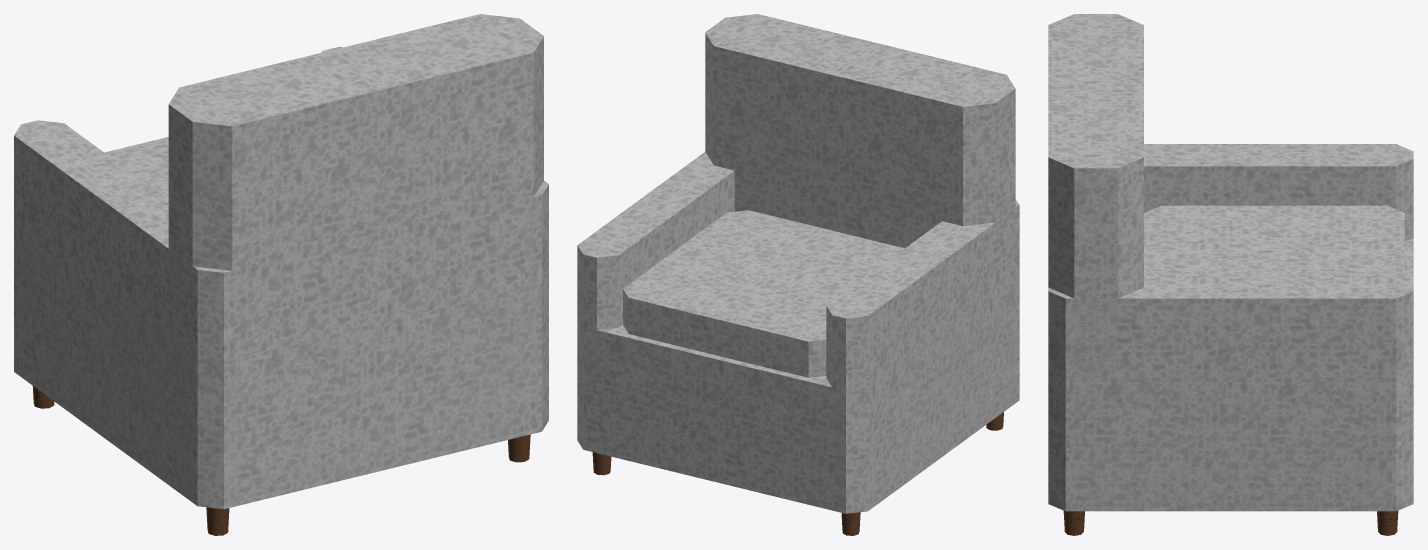
File: armchair.obj
The picture shows the model from 3 angles, left to right: view 1: azimuth 30°, elevation 25°; view 2: azimuth 150°, elevation 25°; view 3: azimuth 270°, elevation 25°; orthographic projection. The views are drawn at different scales.
Visible parts, largest first — view 1: armchair; view 2: armchair; view 3: armchair.
Part boxes in pixels (box(x1,y1,x2,y2)): armchair: box(14, 14, 548, 535); armchair: box(577, 14, 1019, 535); armchair: box(1048, 14, 1413, 535).
Bounding box in the file's own units: 0.84 × 0.95 × 0.84.
2 materials, 2 textured.
